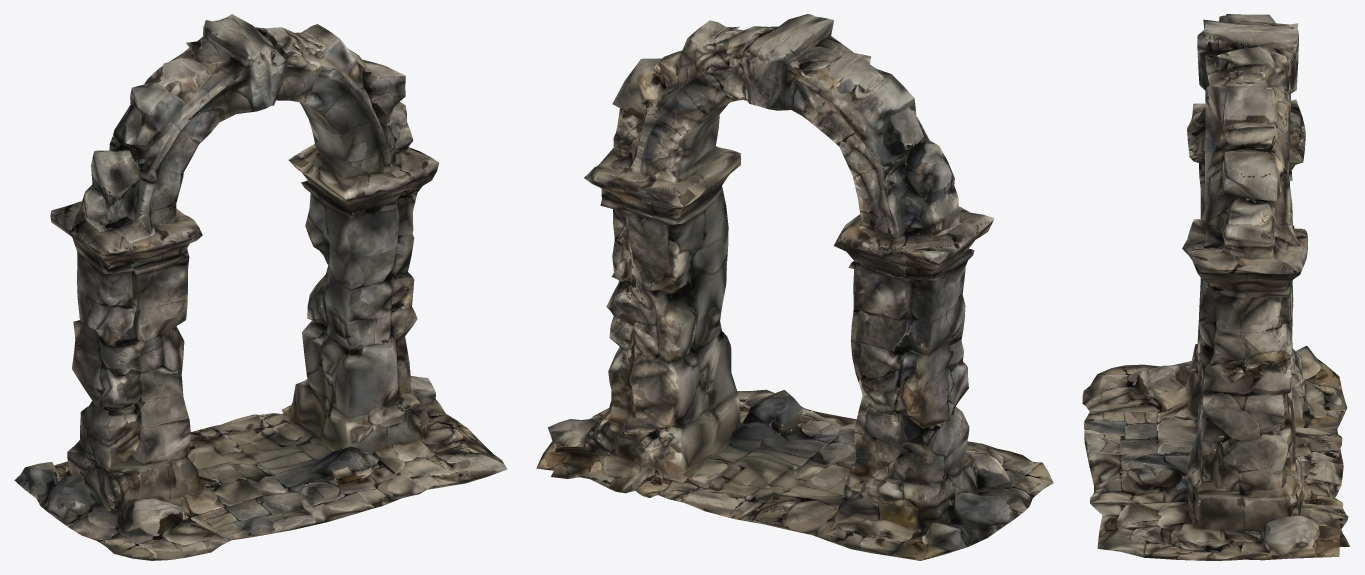
File: arch_ruin_lod1.glb
3 renders of one model, left to right at view 1: azimuth 30°, elevation 25°; view 2: azimuth 150°, elevation 25°; view 3: azimuth 270°, elevation 25°, orthographic. The views are drawn at different scales.
Visible parts, largest first — view 1: arch_ruin_lod1; view 2: arch_ruin_lod1; view 3: arch_ruin_lod1.
Part boxes in pixels (x1,y1,x2,y2): arch_ruin_lod1: [14, 14, 507, 560]; arch_ruin_lod1: [536, 14, 1053, 560]; arch_ruin_lod1: [1082, 14, 1350, 560].
Size of the model in its own units: 13.87 by 14 by 7.86.
Materials: 1 (1 with a texture image).
